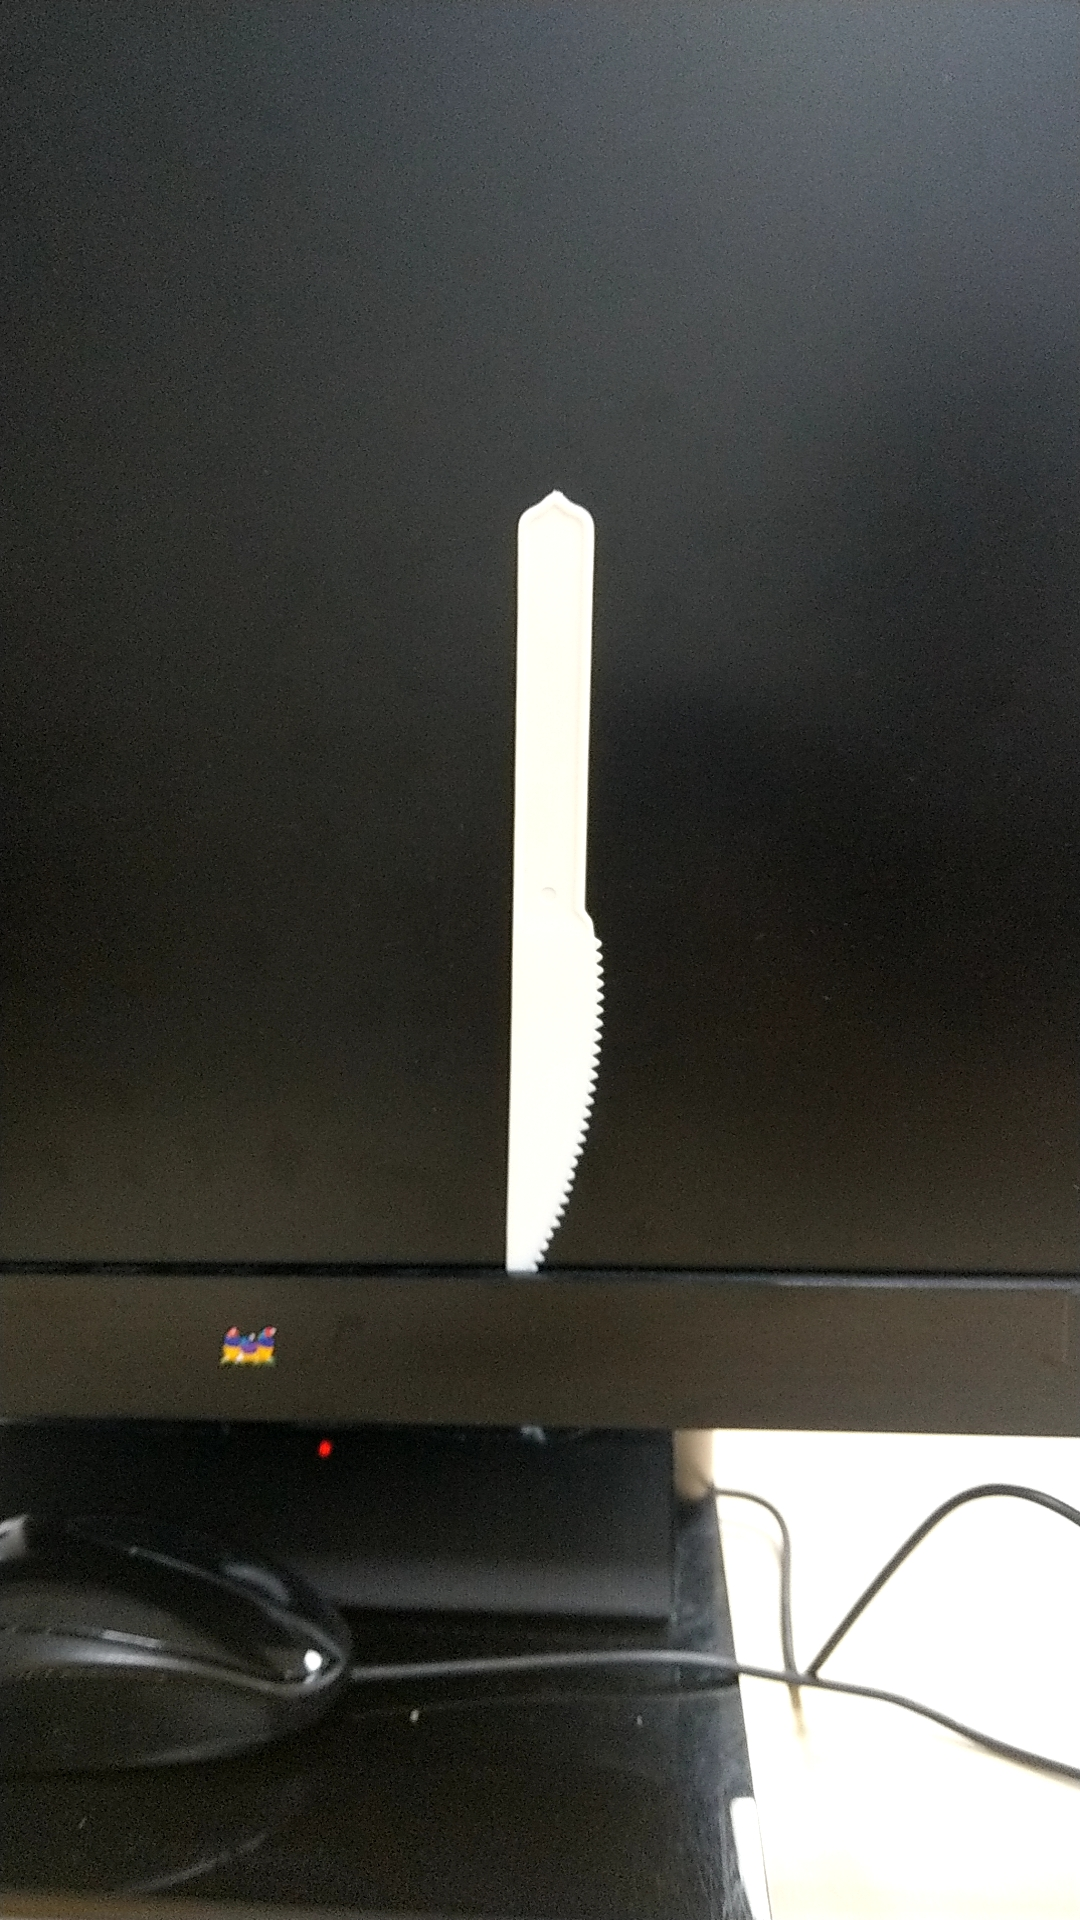knife: (487, 479, 620, 1286)
